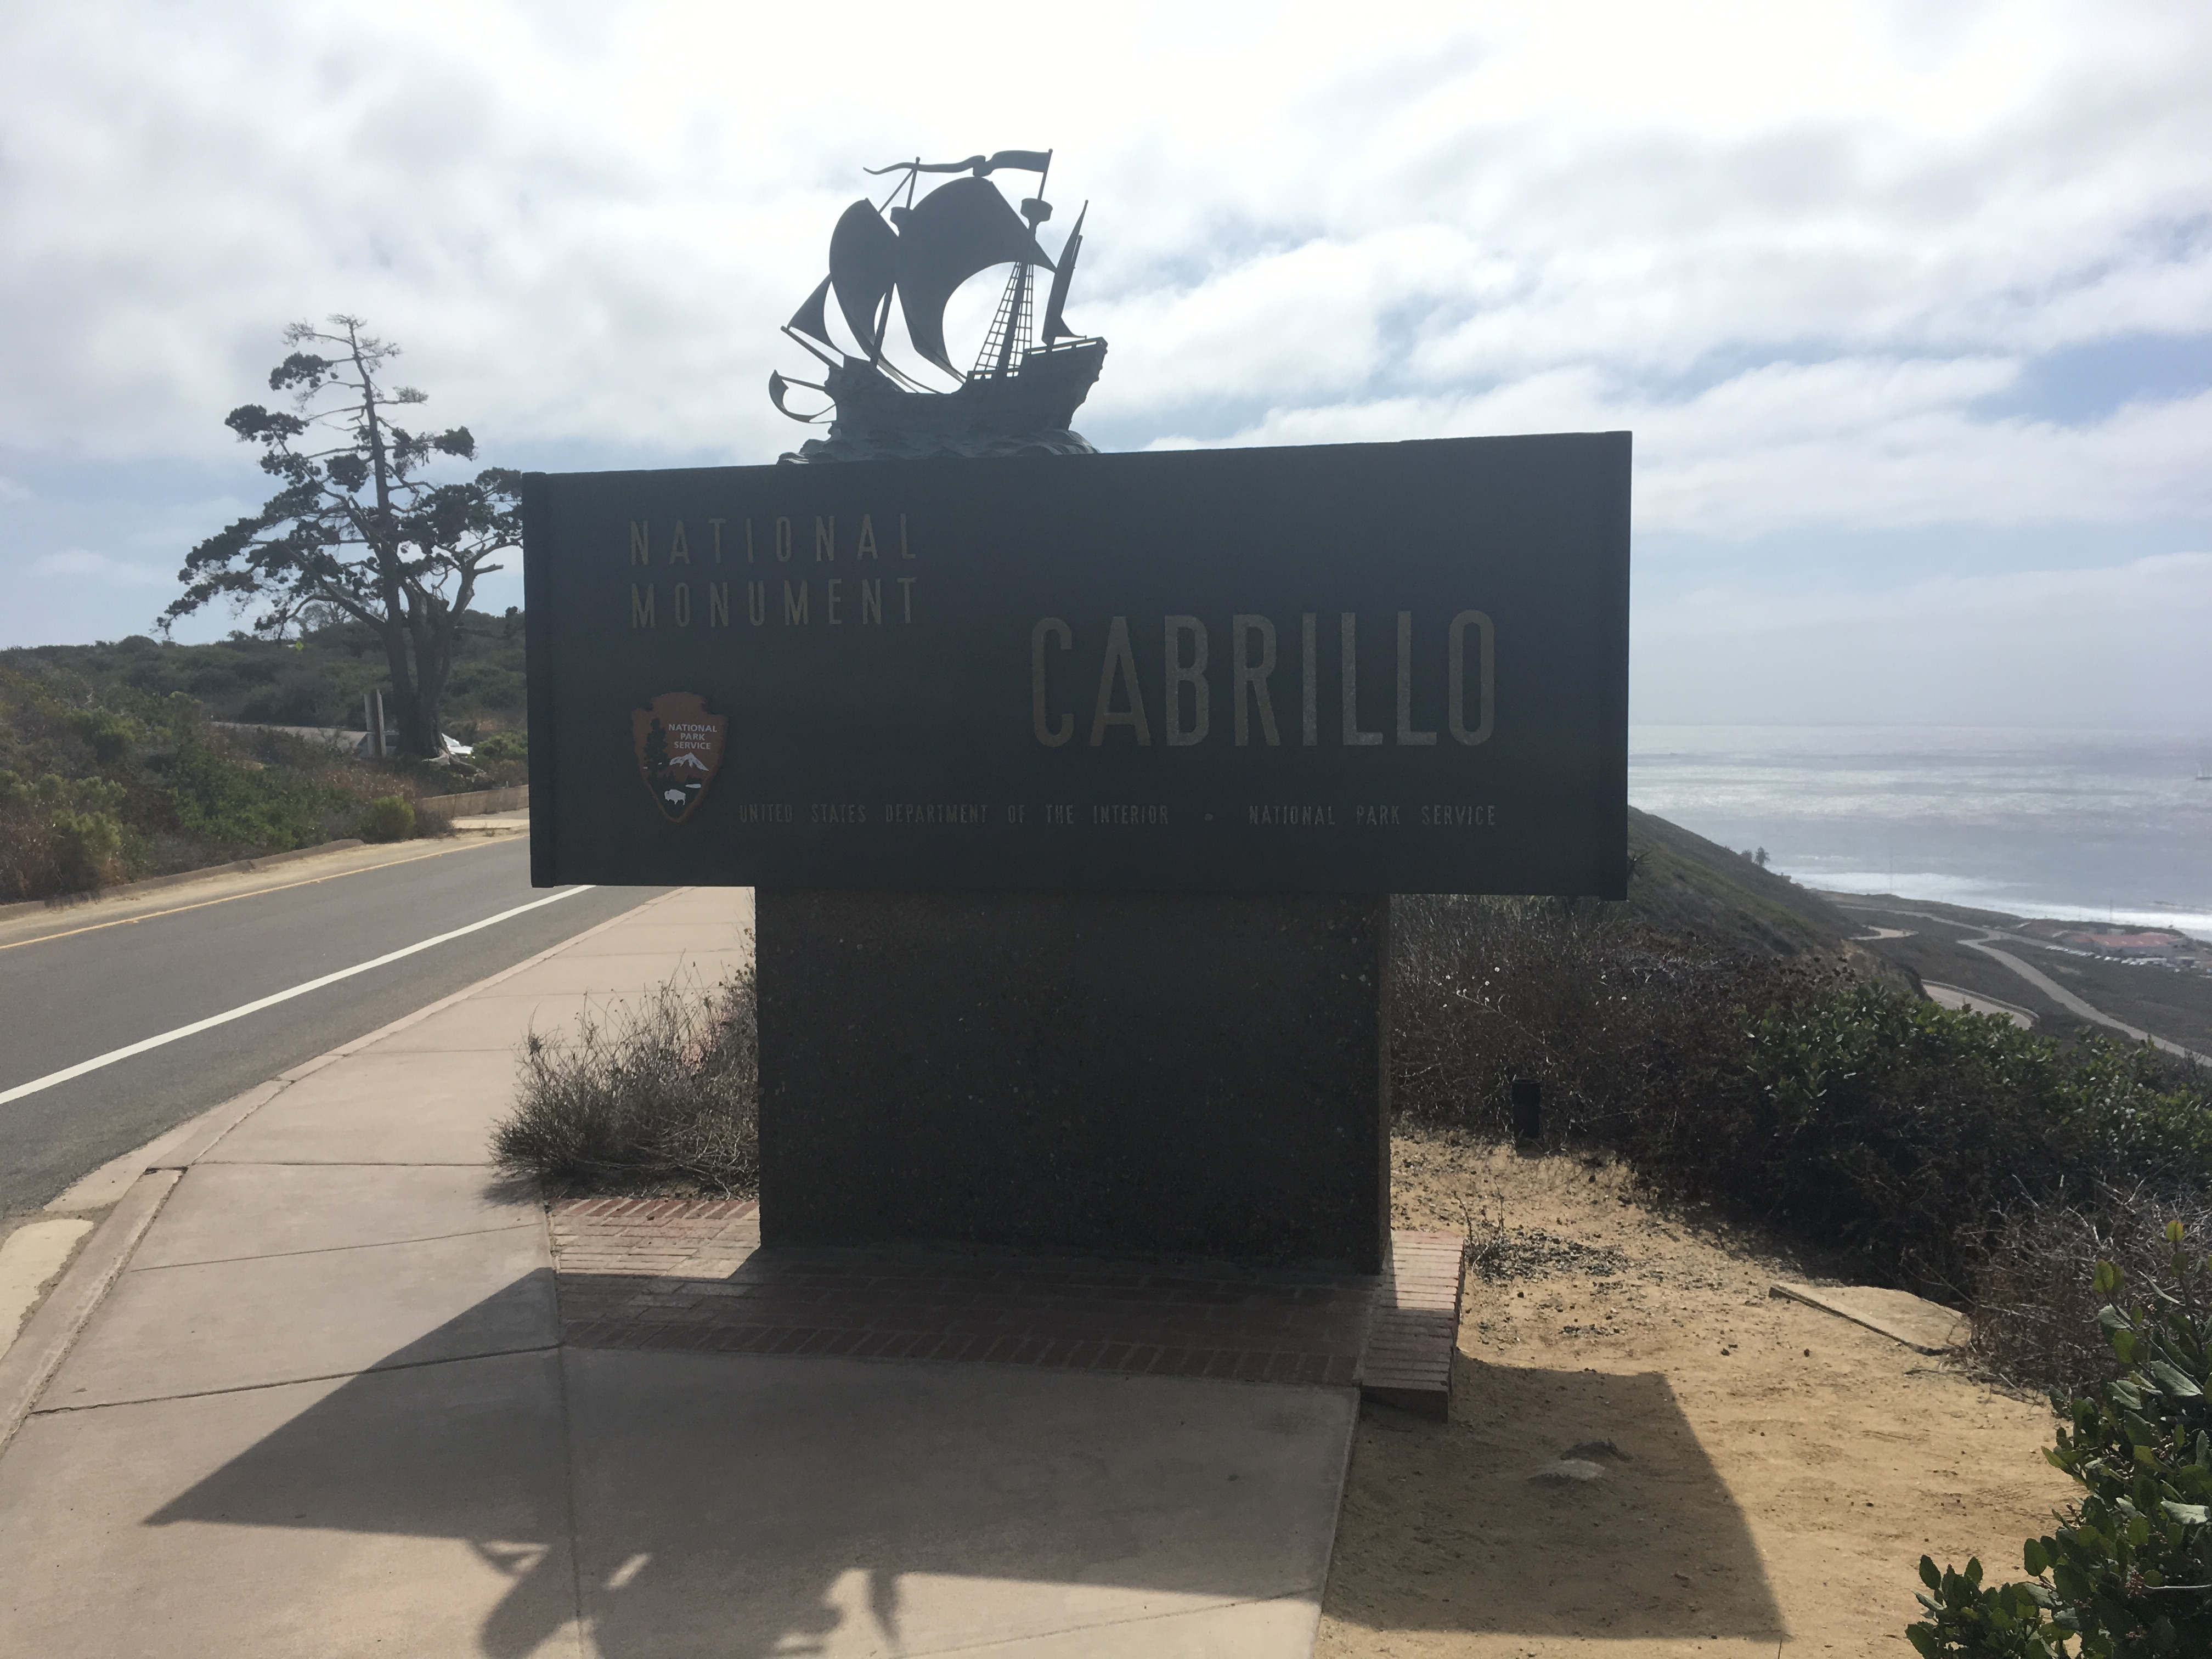Obstacle: (416, 159, 1658, 1448)
